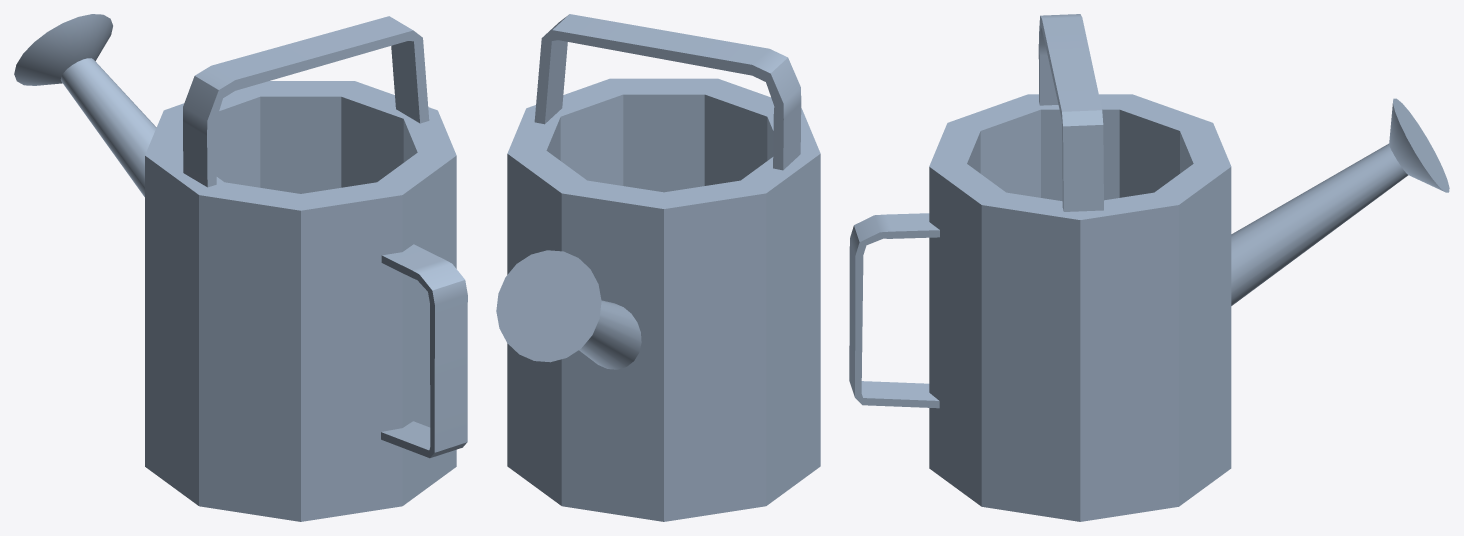
File: watering can.fbx
The picture shows the model from 3 angles, left to right: view 1: azimuth 30°, elevation 25°; view 2: azimuth 150°, elevation 25°; view 3: azimuth 270°, elevation 25°; orthographic projection. The views are drawn at different scales.
Parts seen in each view (by area): view 1: pCylinder1, pCube2, pCube1, pCylinder2, pCone1; view 2: pCylinder1, pCube2, pCone1, pCylinder2; view 3: pCylinder1, pCylinder2, pCube2, pCube1, pCone1.
Part boxes in pixels (left/top/right/bottom): pCylinder1: left=145, top=81, right=456, bottom=521; pCube2: left=183, top=16, right=429, bottom=187; pCube1: left=381, top=244, right=467, bottom=458; pCylinder2: left=60, top=58, right=156, bottom=196; pCone1: left=14, top=14, right=112, bottom=85; pCylinder1: left=507, top=78, right=820, bottom=521; pCube2: left=534, top=14, right=801, bottom=170; pCone1: left=496, top=250, right=601, bottom=362; pCylinder2: left=579, top=300, right=641, bottom=369; pCylinder1: left=929, top=94, right=1231, bottom=521; pCylinder2: left=1231, top=143, right=1408, bottom=305; pCube2: left=1038, top=14, right=1103, bottom=211; pCube1: left=849, top=213, right=939, bottom=408; pCone1: left=1389, top=98, right=1449, bottom=192.
Size of the model in its own units: 1.94 by 2.86 by 3.91.
